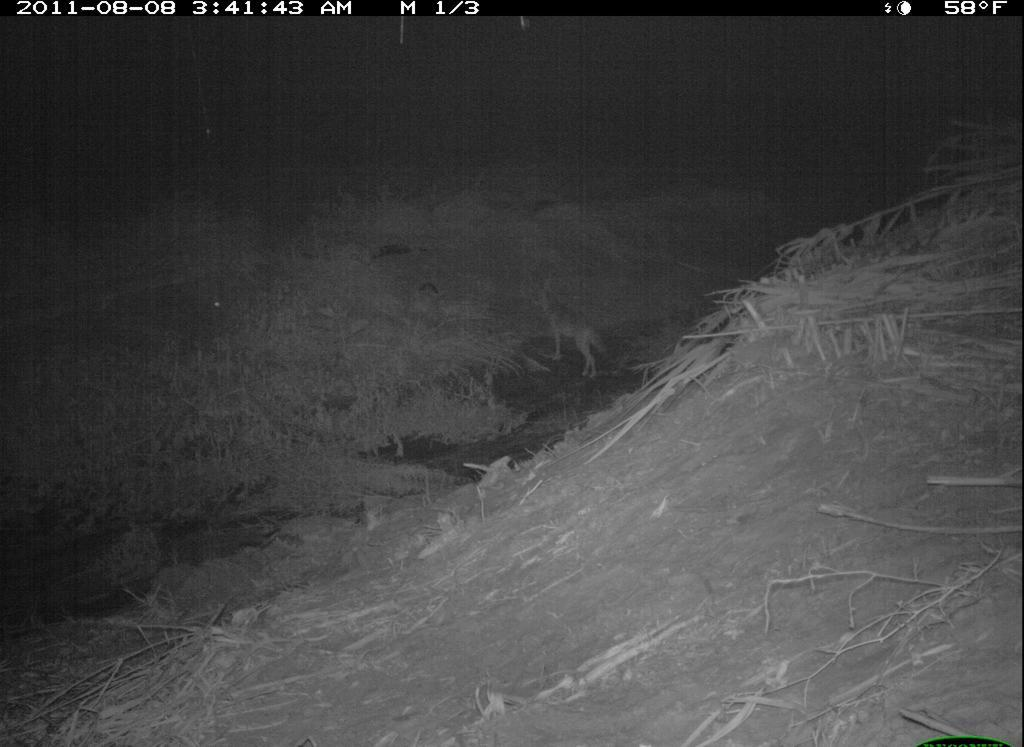coyote: (528, 272, 615, 386)
